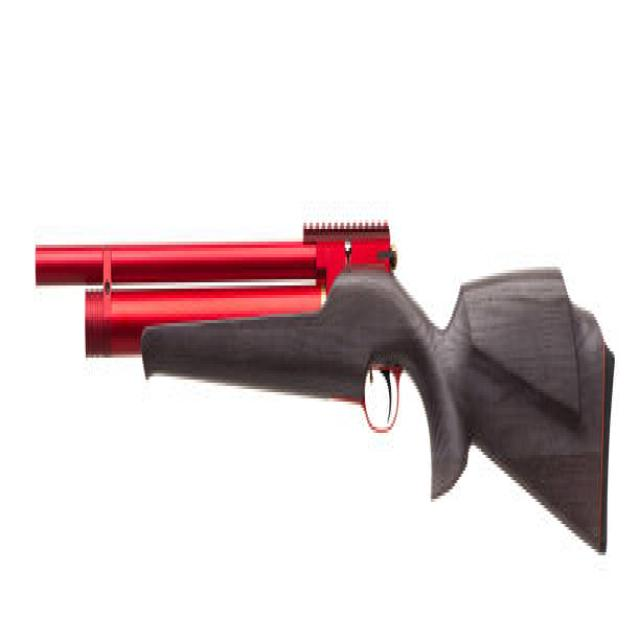rifle: (32, 208, 615, 566)
